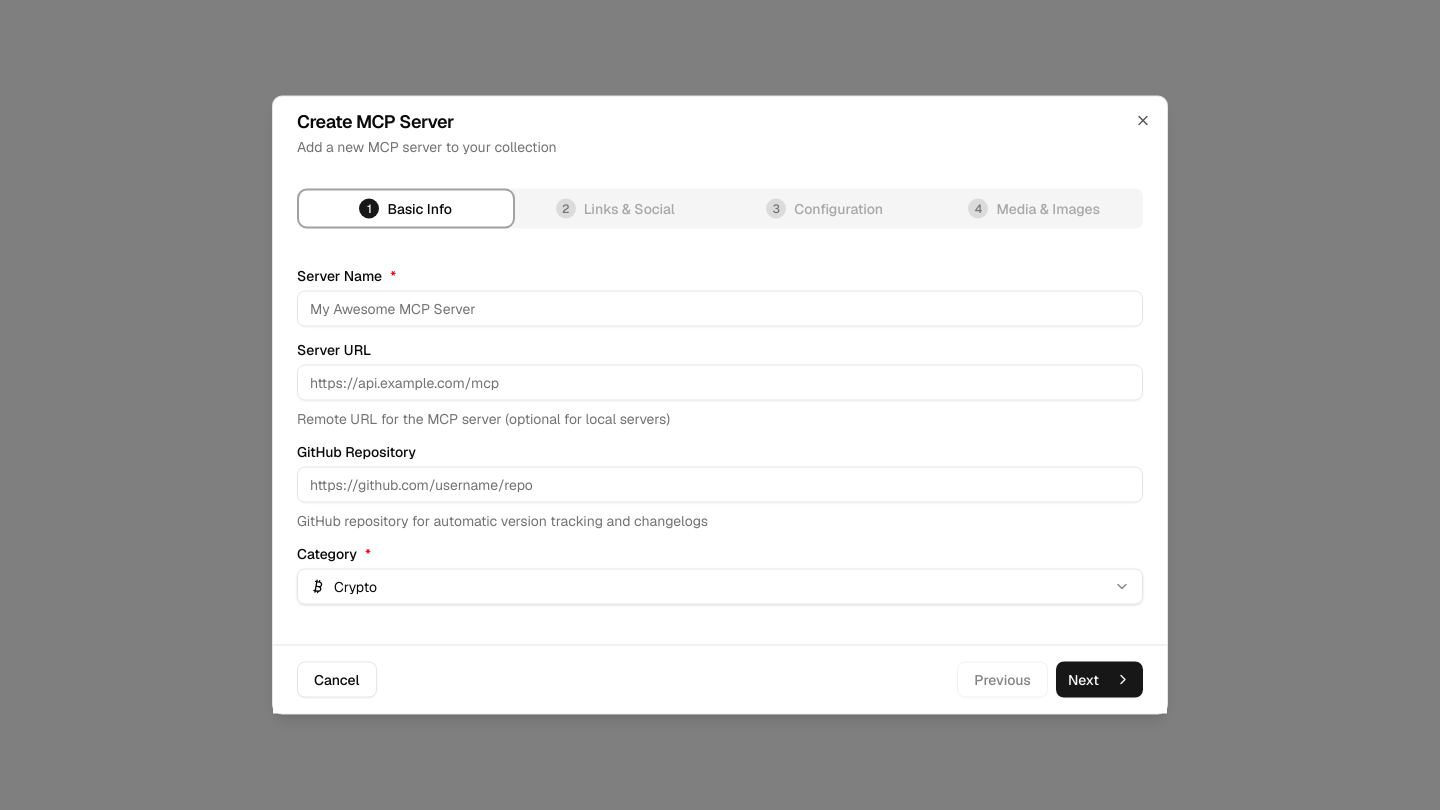
Test: CreateMcpServerForm › Validation Failures › should show validation error for empty required name field
Step 1. Click the button with test id "next-button" → (1099, 680), box [1056, 662, 1143, 698]
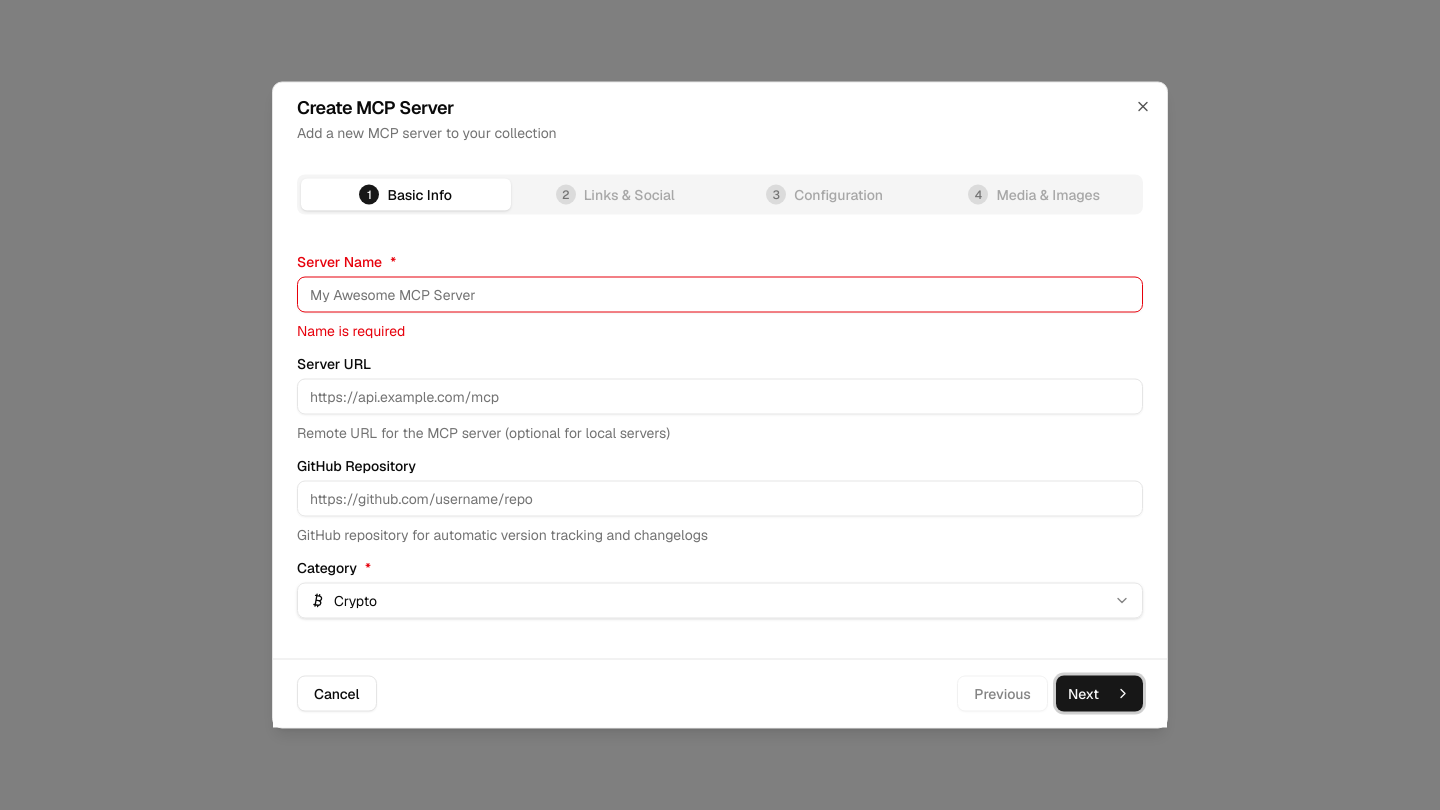
Now the text "Name is required" is shown, box [297, 322, 405, 340]
